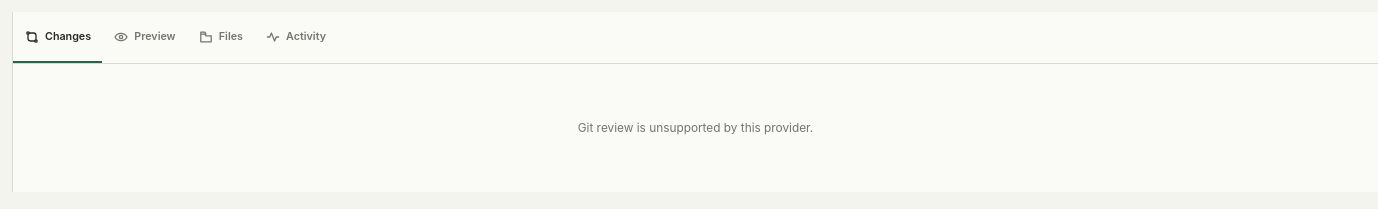
Test case: Files tree › does not browse a Capsule that is not Ready
Click the tab "Files" at [220, 38], box [187,12,254,63]
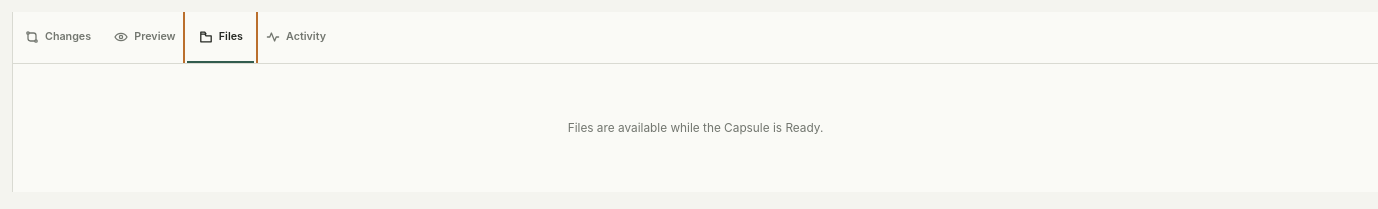
Now the text "Files are available while the Capsule is Ready." is shown, box [568,121,823,135]
